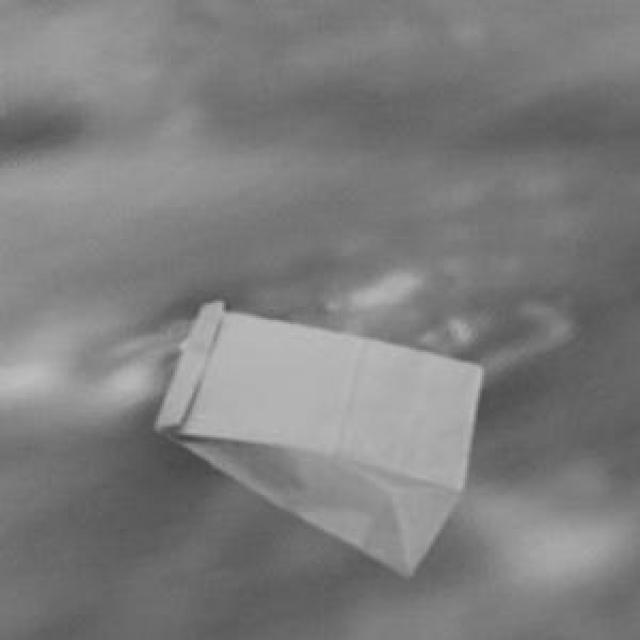paper: (152, 299, 478, 572)
